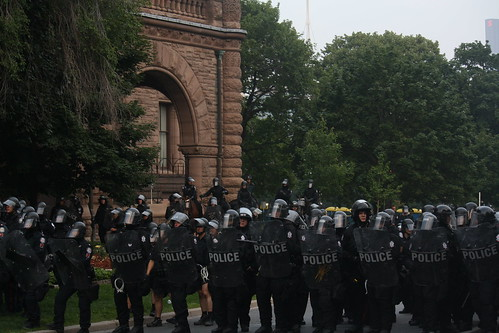building: (127, 1, 254, 187)
policeman: (207, 208, 255, 332), (250, 200, 298, 324), (301, 217, 351, 333), (104, 209, 148, 333), (359, 216, 399, 331), (404, 218, 444, 333), (51, 224, 93, 333), (153, 211, 189, 333)
tree: (293, 34, 469, 205), (1, 1, 150, 186)
